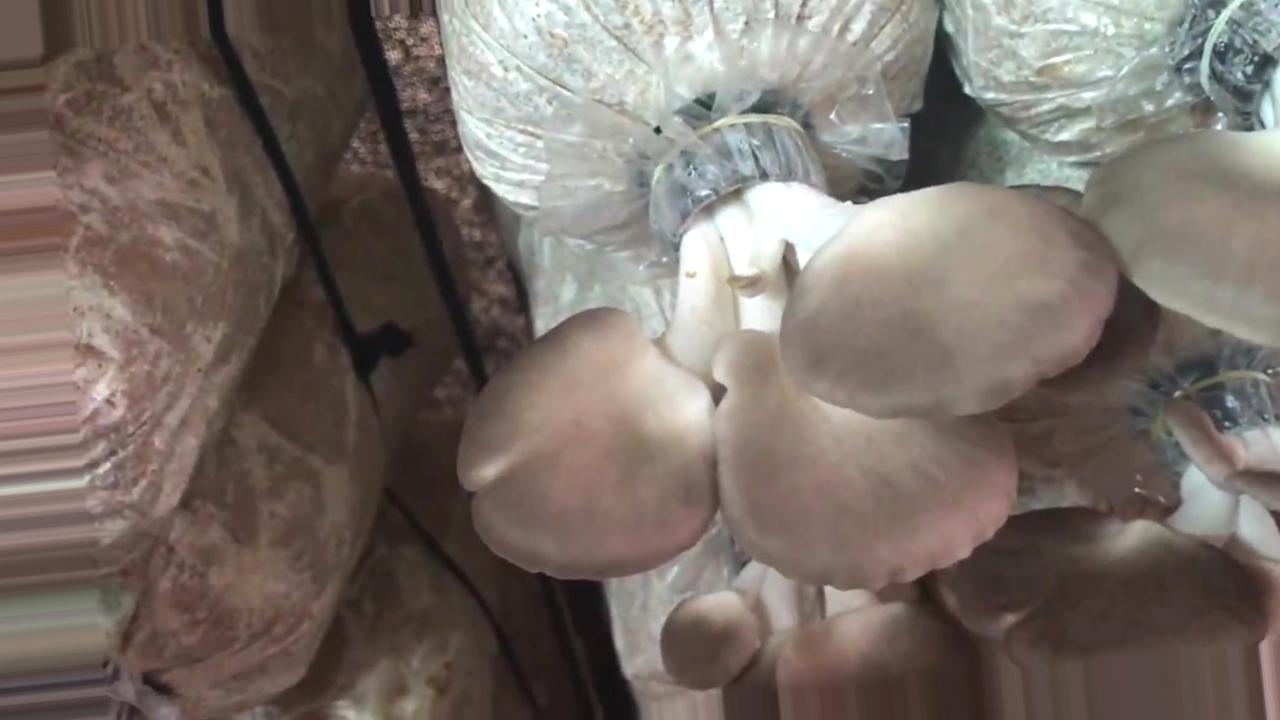nam: (464, 125, 1121, 592), (948, 380, 1280, 645), (1084, 1, 1280, 346), (663, 560, 989, 720)
